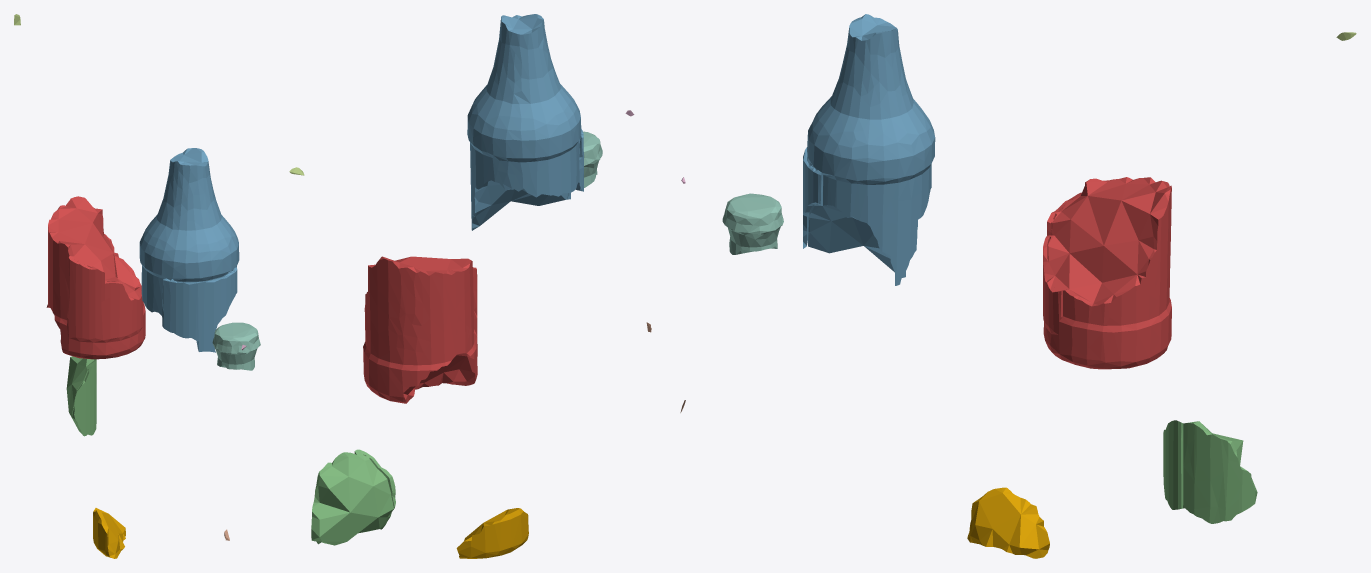
The model's file is mode_10_8pcs_transformed.glb.
3 views of the same model, side by side, from view 1: azimuth 30°, elevation 25°; view 2: azimuth 150°, elevation 25°; view 3: azimuth 270°, elevation 25° (orthographic). The views are drawn at different scales.
Parts seen in each view (by area): view 1: piece_2.obj, piece_1.obj, piece_3.obj, piece_4.obj, piece_0.obj; view 2: piece_2.obj, piece_1.obj, piece_3.obj, piece_0.obj, piece_4.obj; view 3: piece_2.obj, piece_1.obj, piece_3.obj, piece_0.obj, piece_4.obj.
Boxes of the visible parts, <box> form: piece_2.obj: <box>139,148,239,352</box>; piece_1.obj: <box>46,196,145,359</box>; piece_3.obj: <box>66,356,96,436</box>; piece_4.obj: <box>212,322,260,370</box>; piece_0.obj: <box>93,508,125,558</box>; piece_2.obj: <box>467,14,583,230</box>; piece_1.obj: <box>363,256,477,403</box>; piece_3.obj: <box>311,449,395,545</box>; piece_0.obj: <box>456,508,528,558</box>; piece_4.obj: <box>583,131,602,187</box>; piece_2.obj: <box>803,14,935,285</box>; piece_1.obj: <box>1043,177,1171,369</box>; piece_3.obj: <box>1163,420,1257,523</box>; piece_0.obj: <box>967,487,1049,558</box>; piece_4.obj: <box>722,193,783,254</box>.
Bounding box in the file's own units: 0.3241 × 1.49 × 1.69.
